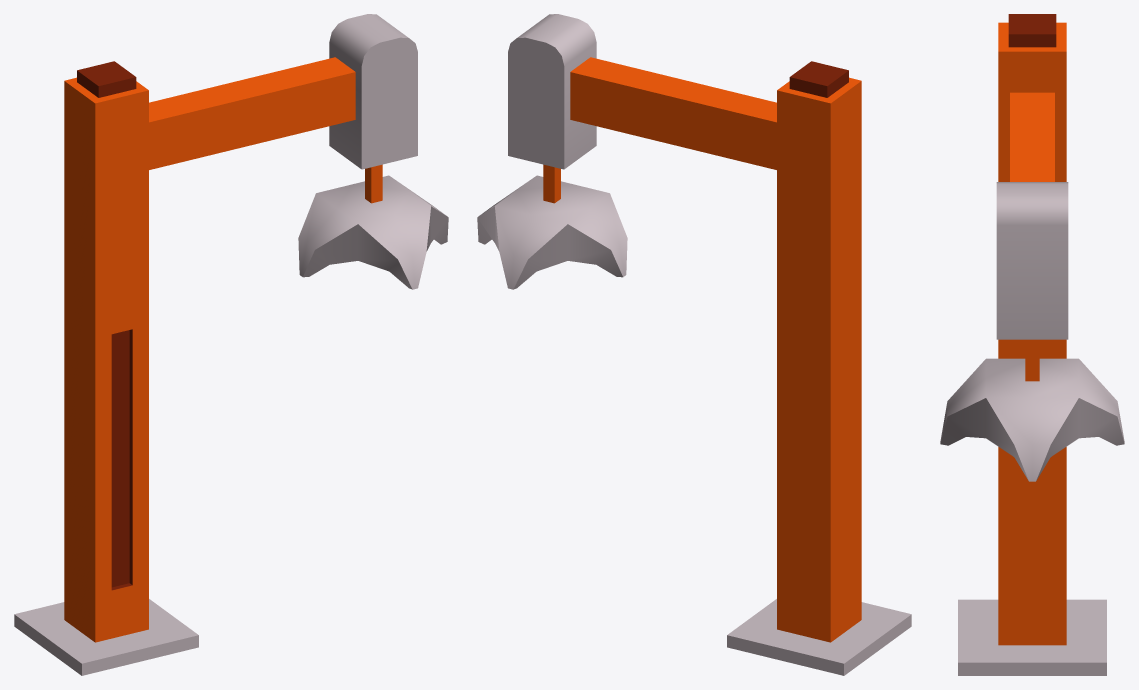
The model's file is robot.fbx.
3 renders of one model, left to right at view 1: azimuth 30°, elevation 25°; view 2: azimuth 150°, elevation 25°; view 3: azimuth 270°, elevation 25°, orthographic. The views are drawn at different scales.
Visible parts, largest first — view 1: Cube.001; view 2: Cube.001; view 3: Cube.001.
Part boxes in pixels (x1,y1,x2,y2): Cube.001: [14, 14, 448, 675]; Cube.001: [477, 14, 911, 675]; Cube.001: [940, 14, 1124, 675].
Size of the model in its own units: 6.8 by 9.19 by 2.47.
1 material, 1 textured.
